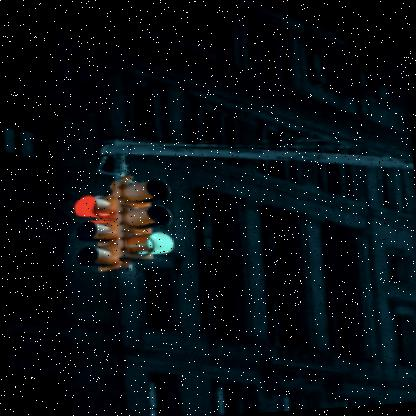trafficlight: (68, 182, 128, 272), (119, 173, 177, 259)
